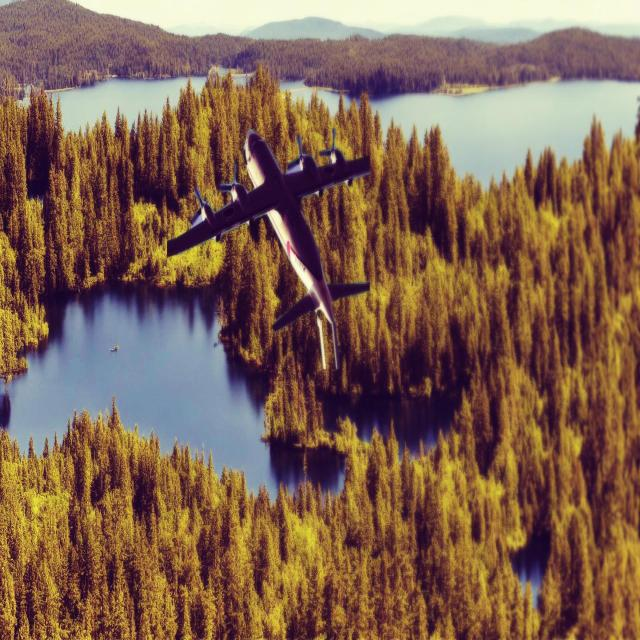airplane: (166, 126, 371, 371)
